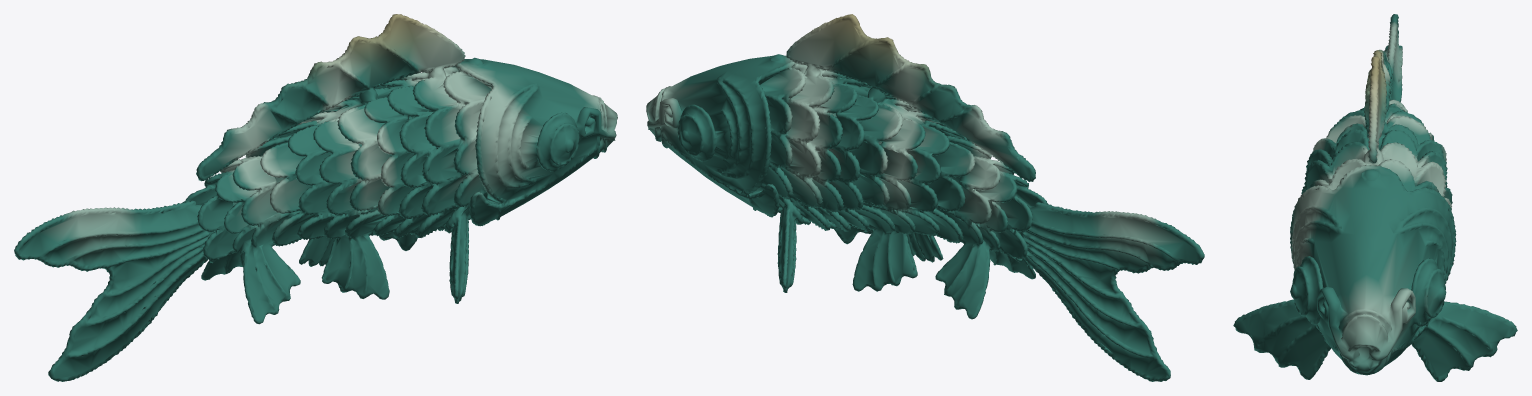
Rendered from ornamental-jade.glb.
3 renders of one model, left to right at view 1: azimuth 30°, elevation 25°; view 2: azimuth 150°, elevation 25°; view 3: azimuth 270°, elevation 25°, orthographic. The views are drawn at different scales.
Parts seen in each view (by area): view 1: Ornamental koi / jade; view 2: Ornamental koi / jade; view 3: Ornamental koi / jade.
Part boxes in pixels (<box>): Ornamental koi / jade: <box>14,14,617,381</box>; Ornamental koi / jade: <box>646,14,1204,381</box>; Ornamental koi / jade: <box>1233,14,1517,381</box>.
Size of the model in its own units: 2.85 by 1.36 by 1.05.
